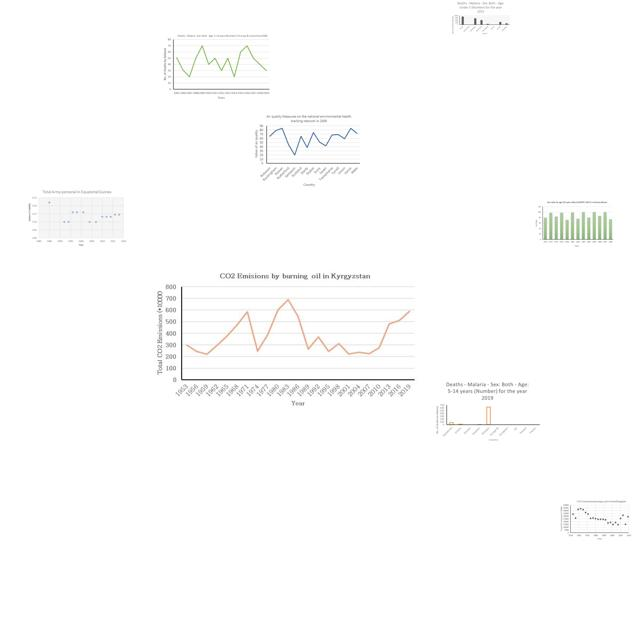Graph: (154, 265, 418, 408), (252, 112, 362, 188), (159, 33, 271, 100), (433, 380, 542, 444), (27, 189, 127, 248), (533, 200, 616, 249), (559, 499, 632, 541), (450, 0, 511, 36)
